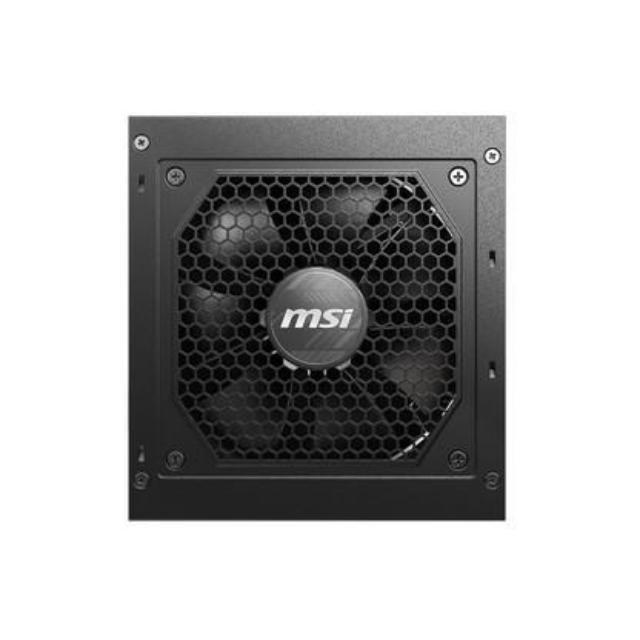PSU: (114, 102, 516, 538)
